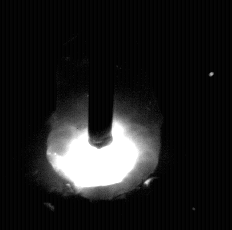arame: (89, 0, 114, 148)
poca: (44, 0, 162, 230)
